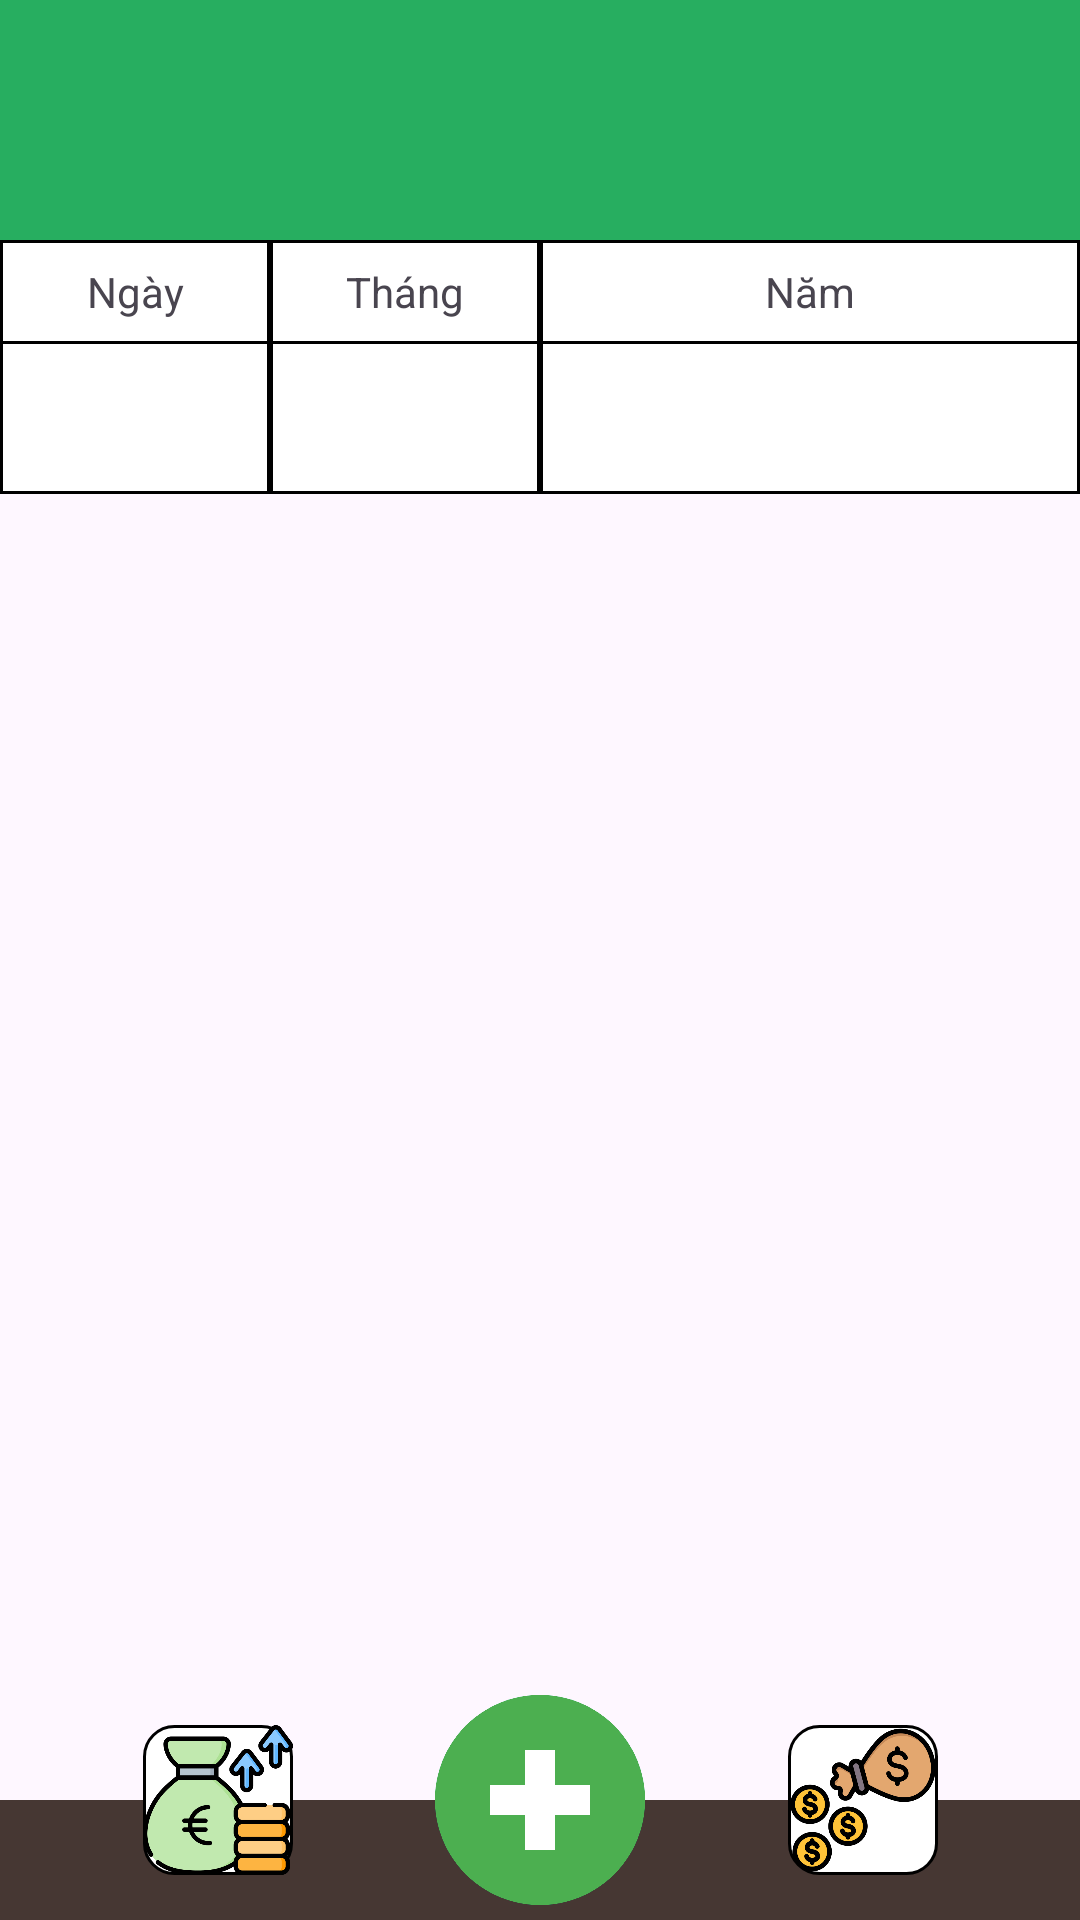

Icons on this 1080 × 1920 Android screen, each with the point to tap as [x,y]:
expense: [863,1800]
income: [218,1800]
plus: [540,1800]
